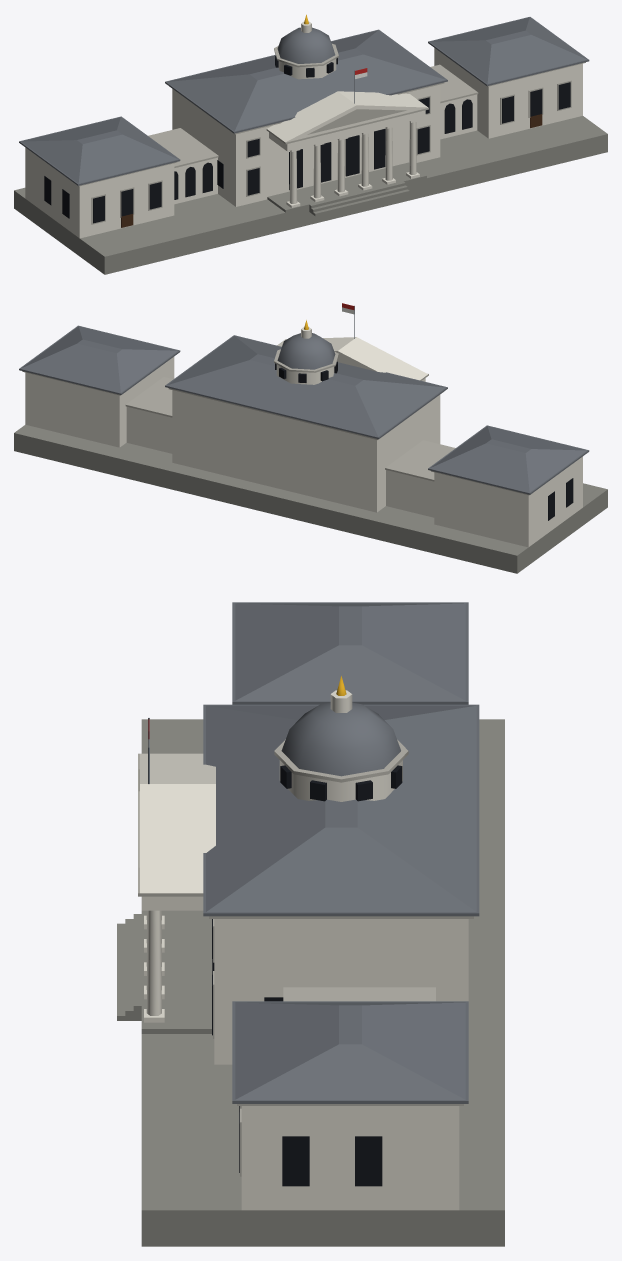
File: istana_bogor.glb
The picture shows the model from 3 angles, top to bottom: view 1: azimuth 30°, elevation 25°; view 2: azimuth 150°, elevation 25°; view 3: azimuth 270°, elevation 25°; orthographic projection. The views are drawn at different scales.
Visible parts, largest first — view 1: body; view 2: body; view 3: body.
Part boxes in pixels (x1,y1,x2,y2): body: [14, 14, 607, 274]; body: [14, 303, 607, 573]; body: [117, 602, 504, 1246].
Size of the model in its own units: 65 by 19.8 by 21.35.
Materials: 1 (1 with a texture image).
